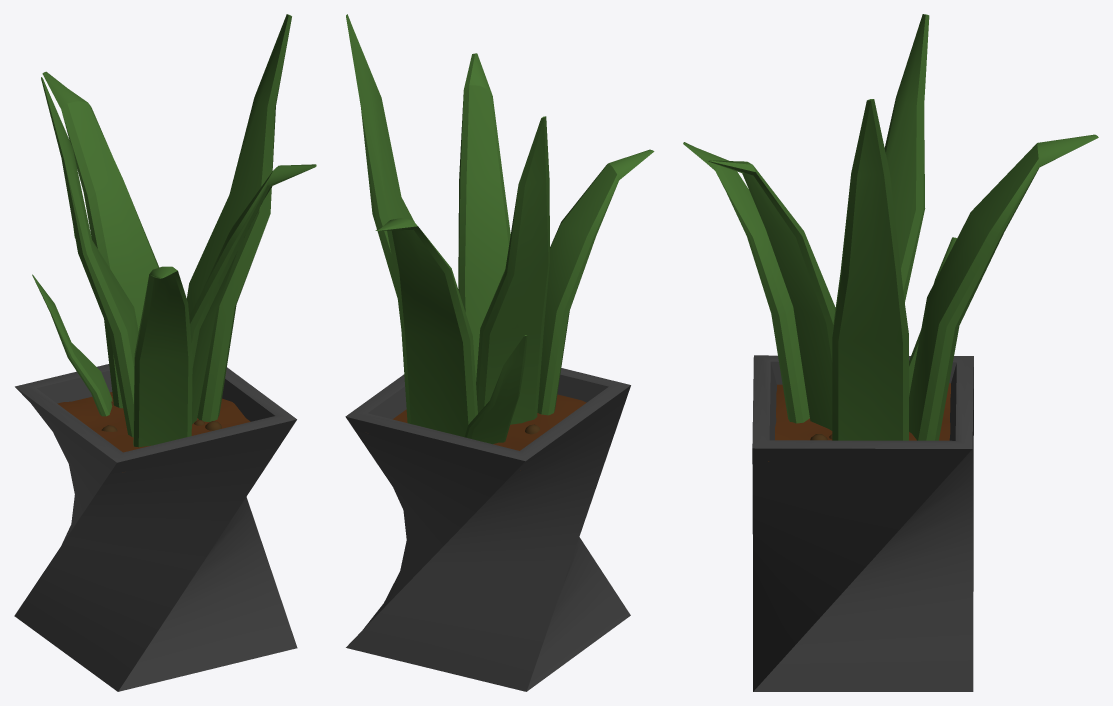
The model's file is twistedRectanglePot.fbx.
3 renders of one model, left to right at view 1: azimuth 30°, elevation 25°; view 2: azimuth 150°, elevation 25°; view 3: azimuth 270°, elevation 25°, orthographic. The views are drawn at different scales.
Visible parts, largest first — view 1: Twisted Rectangle Pot; view 2: Twisted Rectangle Pot; view 3: Twisted Rectangle Pot.
Part boxes in pixels (bbox=[...]): Twisted Rectangle Pot: bbox=[14, 14, 316, 691]; Twisted Rectangle Pot: bbox=[345, 14, 654, 691]; Twisted Rectangle Pot: bbox=[683, 14, 1098, 691].
Bounding box in the file's own units: 18.64 × 27.68 × 45.32.
